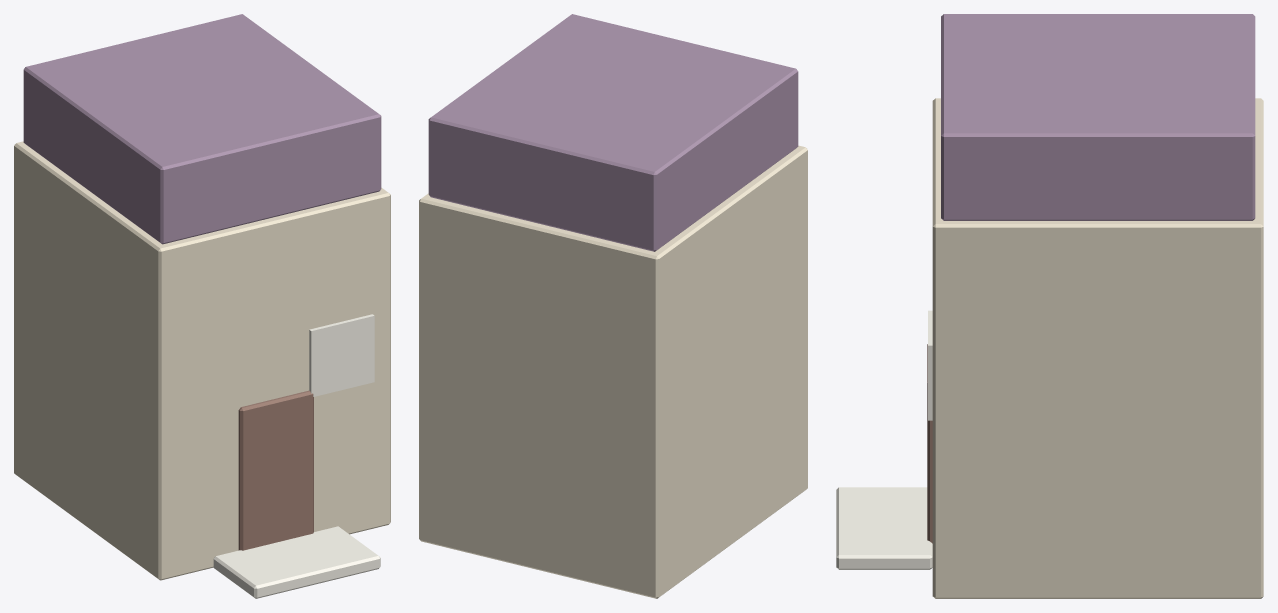
File: house_c.glb
3 views of the same model, side by side, from view 1: azimuth 30°, elevation 25°; view 2: azimuth 150°, elevation 25°; view 3: azimuth 270°, elevation 25° (orthographic). The views are drawn at different scales.
Visible parts, largest first — view 1: house_c; view 2: house_c; view 3: house_c.
Boxes of the visible parts, box(x1,y1,x2,y2) form: house_c: box(14, 14, 390, 598); house_c: box(419, 14, 807, 598); house_c: box(836, 14, 1263, 598).
Size of the model in its own units: 2.2 by 3.7 by 3.1.
